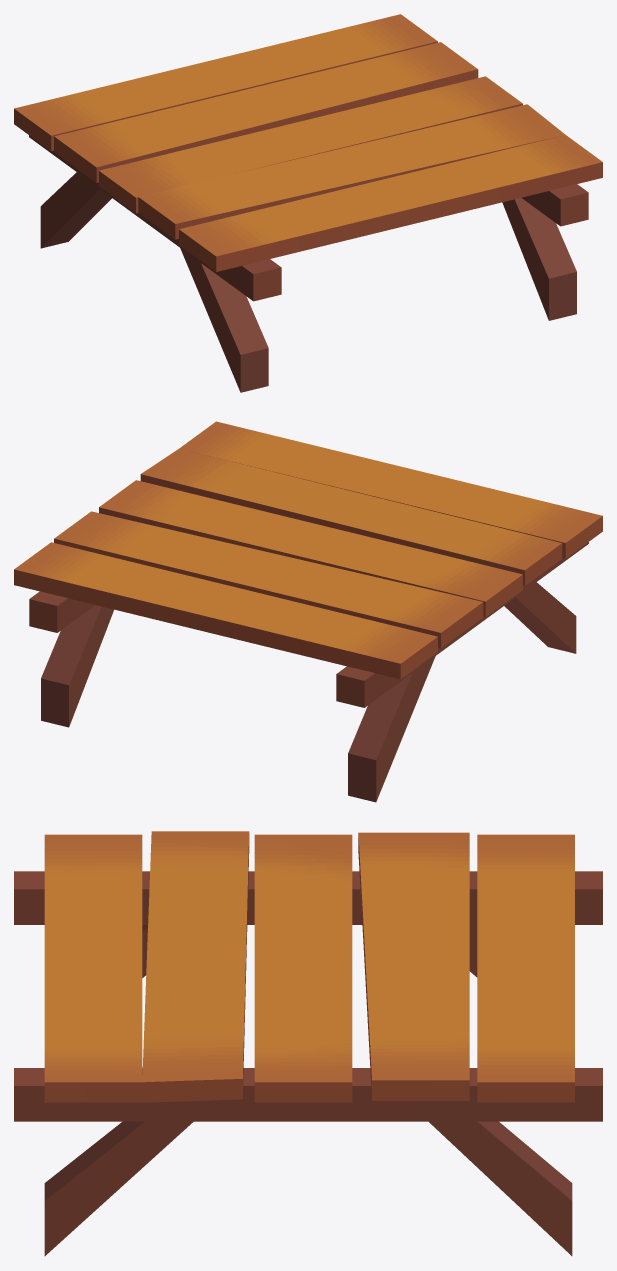
Rendered from platform_bridge.gltf.
3 views of the same model, one above another, from view 1: azimuth 30°, elevation 25°; view 2: azimuth 150°, elevation 25°; view 3: azimuth 270°, elevation 25° (orthographic). The views are drawn at different scales.
Parts seen in each view (by area): view 1: PlatformBridge.001; view 2: PlatformBridge.001; view 3: PlatformBridge.001.
Part boxes in pixels (x1,y1,x2,y2): PlatformBridge.001: [14, 14, 602, 392]; PlatformBridge.001: [14, 421, 602, 802]; PlatformBridge.001: [14, 831, 602, 1256].
Bounding box in the file's own units: 0.9931 × 0.3638 × 0.9985.
Materials: 1 (1 with a texture image).
